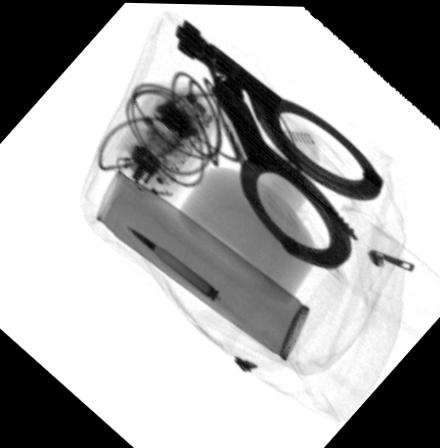Bullet: (121, 223, 220, 303)
HandCuffs: (173, 17, 385, 268)
